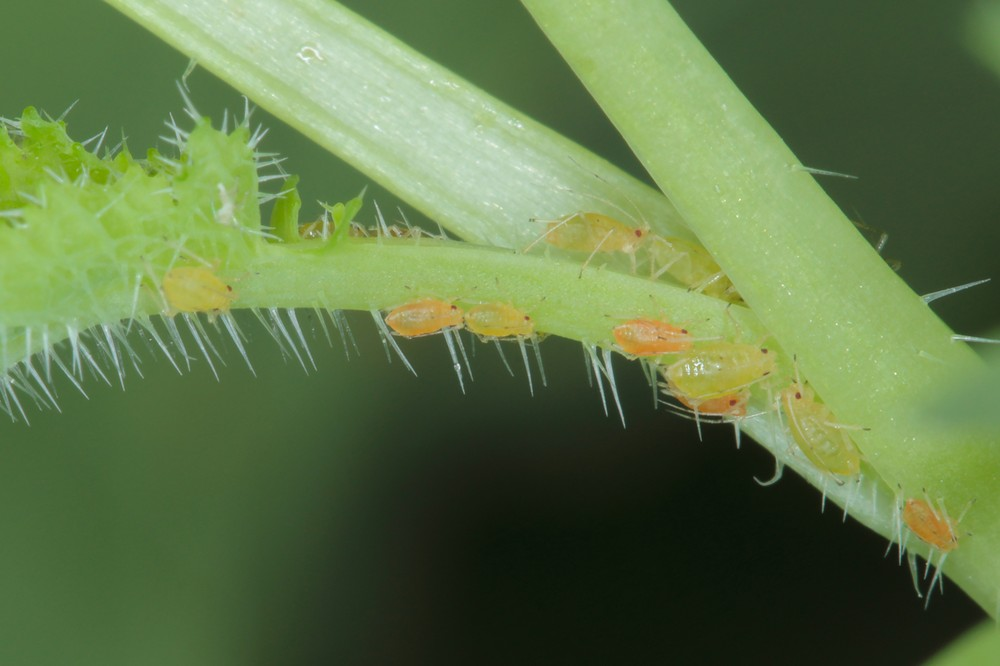Pulgon: (765, 362, 885, 500), (514, 191, 665, 295), (645, 215, 762, 312), (655, 324, 789, 405), (136, 248, 266, 324), (883, 485, 982, 567), (371, 272, 471, 353), (456, 286, 560, 357), (610, 305, 712, 375), (648, 376, 759, 429)
